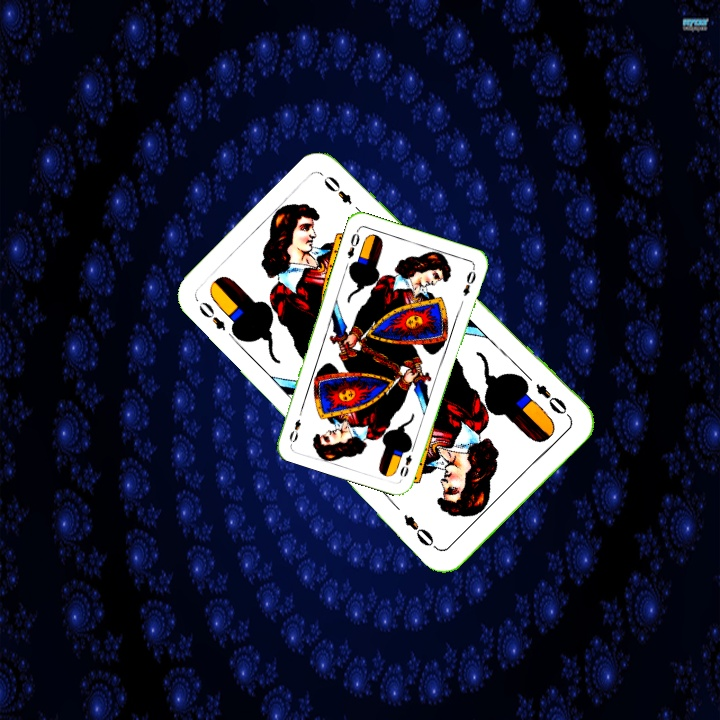EO: (194, 297, 241, 345), (531, 380, 573, 420), (343, 226, 362, 261), (396, 450, 414, 480)
